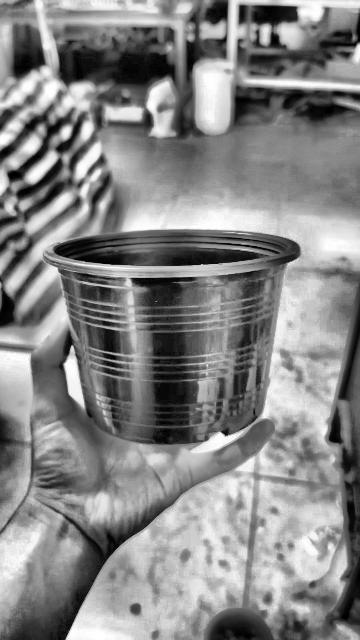pot: (44, 231, 299, 445)
